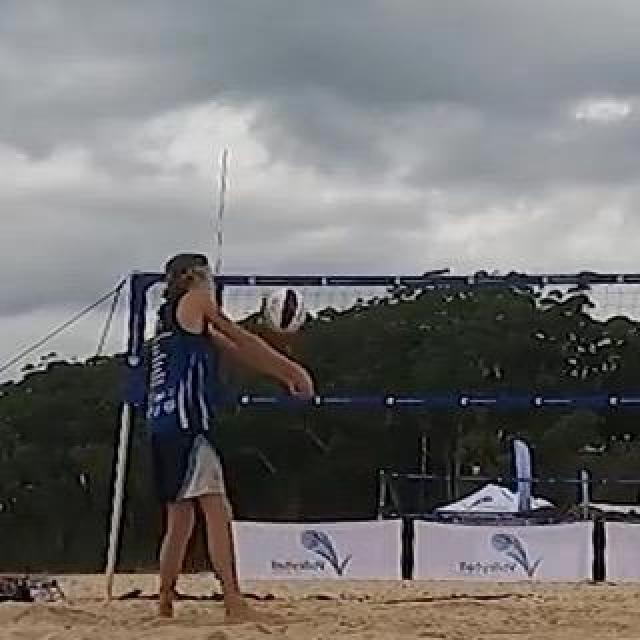volleyball: (259, 286, 305, 336)
